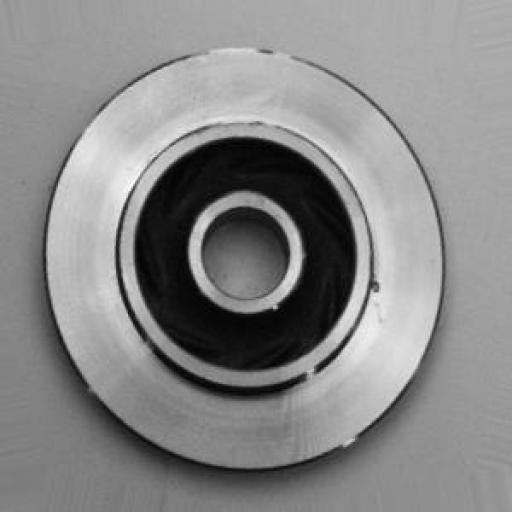defect: (360, 223, 396, 340)
